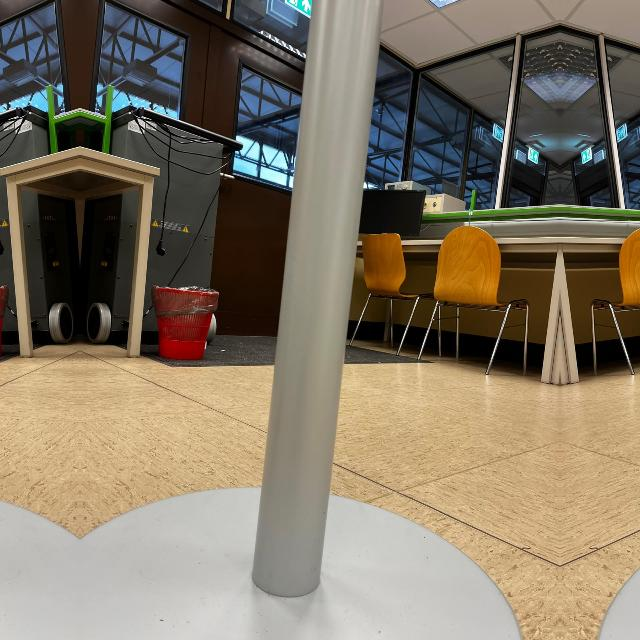obstacle: (83, 408, 527, 640), (0, 408, 77, 640), (593, 408, 640, 640), (150, 284, 218, 361), (0, 283, 10, 360)
